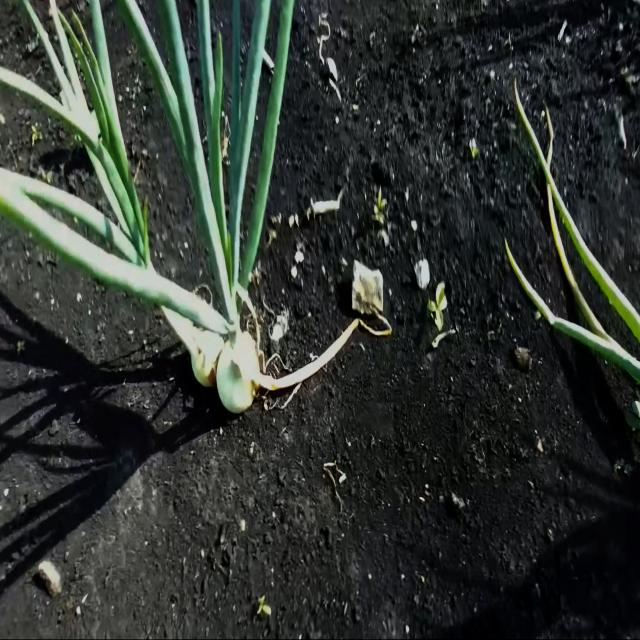onion: (216, 330, 260, 415), (186, 314, 224, 392)
